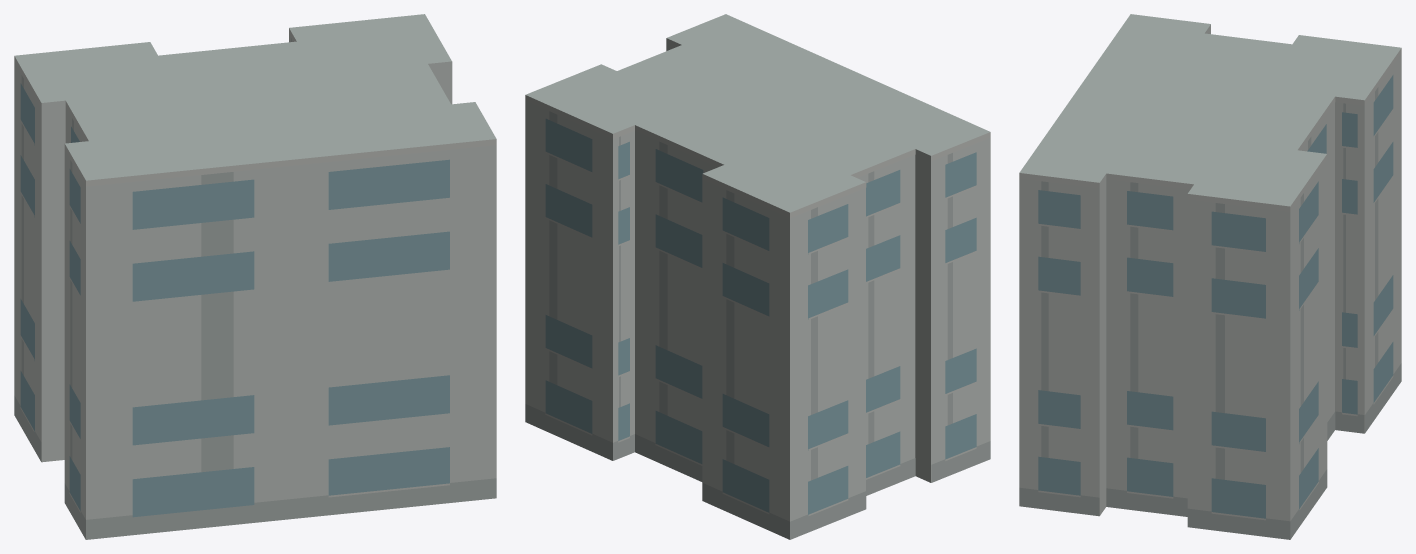
The model's file is survey-upis-32612115.glb.
3 views of the same model, side by side, from view 1: azimuth 30°, elevation 25°; view 2: azimuth 150°, elevation 25°; view 3: azimuth 270°, elevation 25° (orthographic). The views are drawn at different scales.
Parts seen in each view (by area): view 1: survey-upis-32612115.tmp; view 2: survey-upis-32612115.tmp; view 3: survey-upis-32612115.tmp.
Part boxes in pixels (x1,y1,x2,y2): survey-upis-32612115.tmp: (14,14,496,539); survey-upis-32612115.tmp: (525,14,990,539); survey-upis-32612115.tmp: (1019,14,1401,539).
Size of the model in its own units: 17.72 by 14.3 by 14.87.
